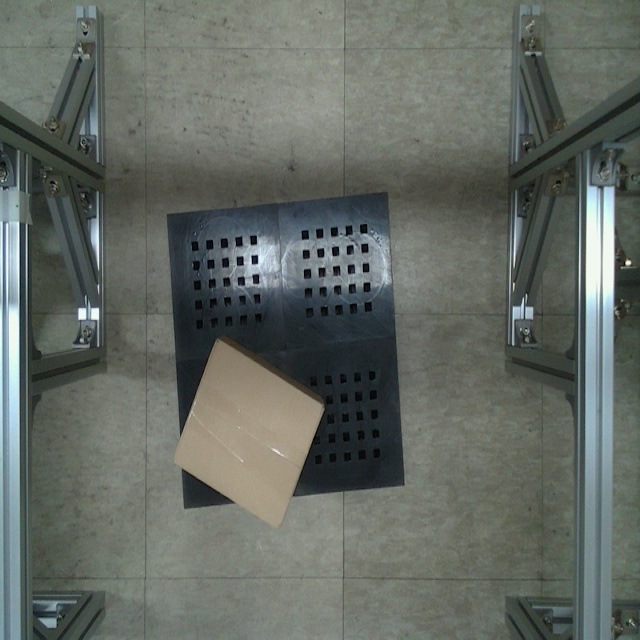box: (170, 334, 330, 532)
pallet: (162, 187, 413, 514)
